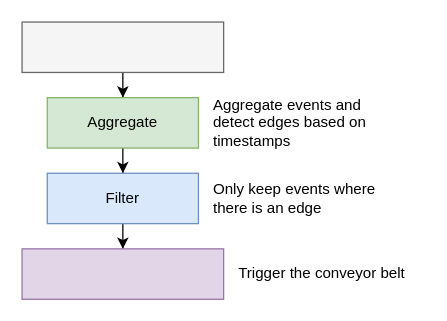
The diagram is 447 pixels wide and 321 high, and some of its shapes have lost their labels. Here are the shapes that lost their labels. From the top down, the box of each, then its label:
(21, 21, 224, 72): sensor.block-present.v1
(21, 248, 224, 299): actuator.conveyor.v1
